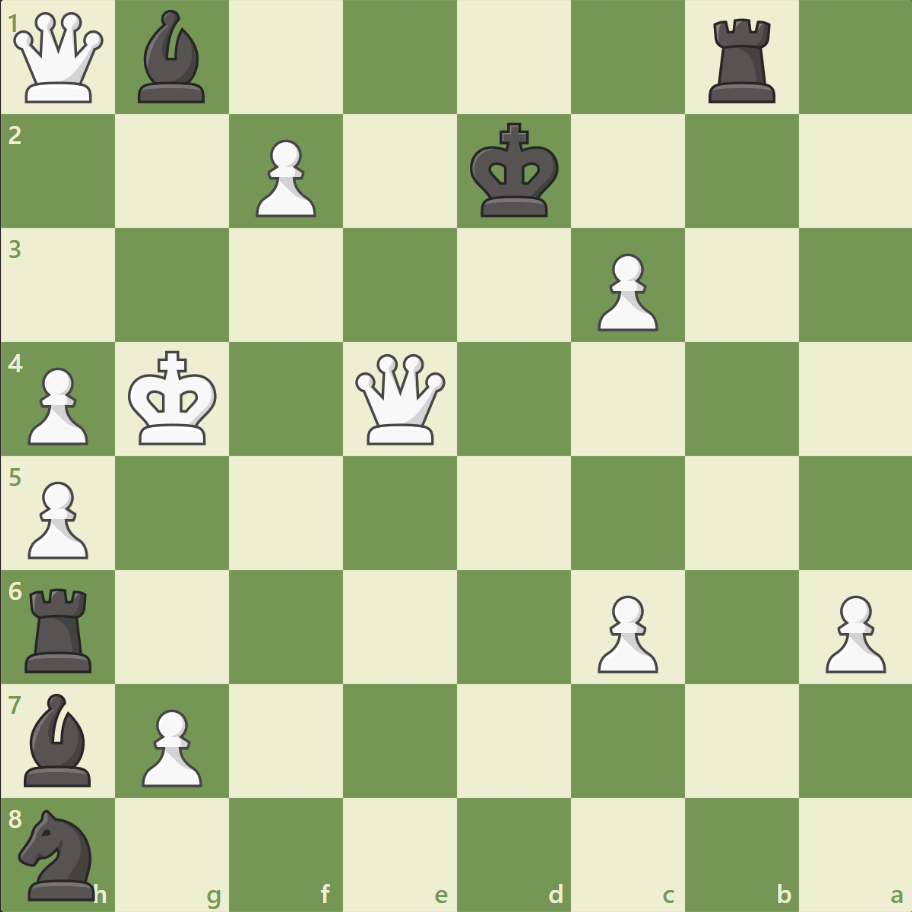K: (124, 344, 224, 452)
P: (133, 700, 208, 791), (20, 473, 95, 564), (20, 359, 95, 450), (247, 132, 322, 223), (815, 586, 889, 677), (588, 586, 662, 677), (588, 246, 662, 337)
Q: (351, 349, 450, 449), (10, 9, 109, 108)
b: (17, 687, 101, 790), (131, 6, 215, 109)
k: (465, 117, 565, 225)
n: (11, 802, 108, 904)
r: (19, 579, 102, 676), (700, 12, 783, 109)
